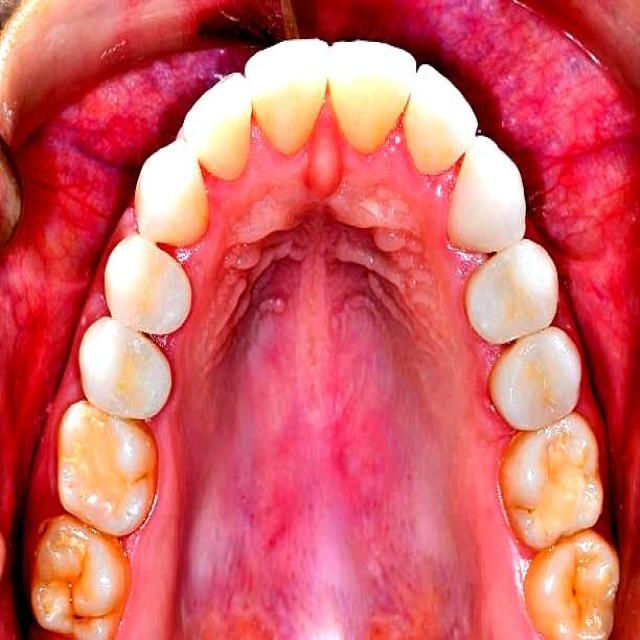caries: (51, 565, 102, 635)
